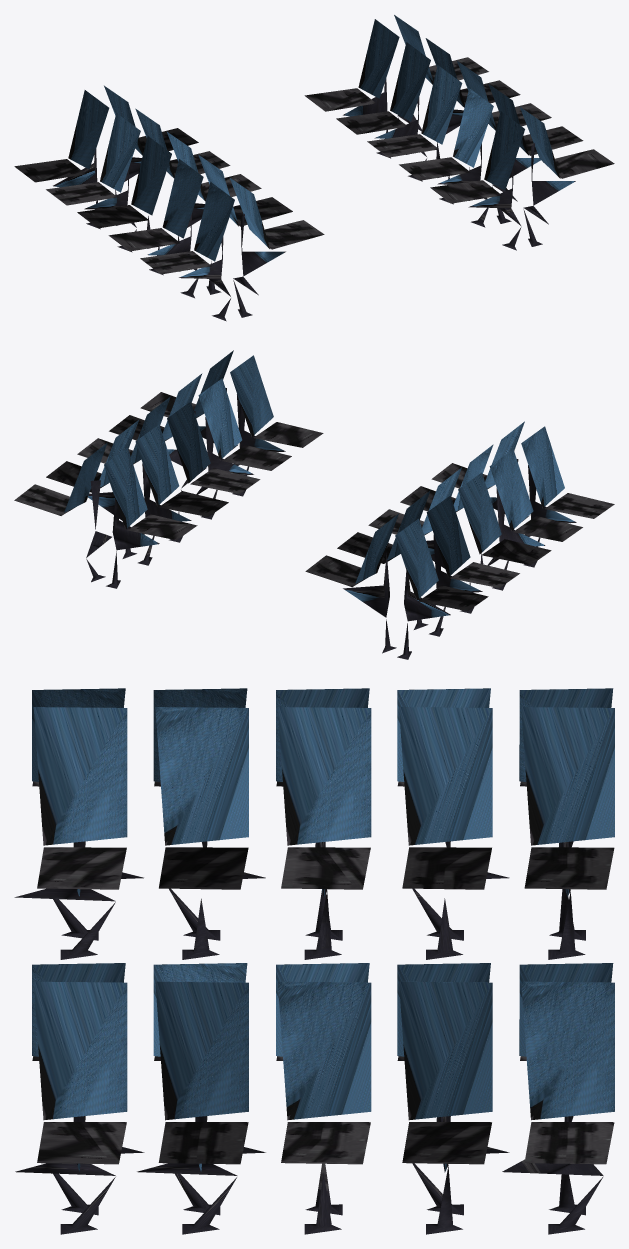
File: waiting_chairs.glb
3 views of the same model, one above another, from view 1: azimuth 30°, elevation 25°; view 2: azimuth 150°, elevation 25°; view 3: azimuth 270°, elevation 25° (orthographic). The views are drawn at different scales.
Parts seen in each view (by area): view 1: Modular_props1; view 2: Modular_props1; view 3: Modular_props1.
Part boxes in pixels (box(x1,y1,x2,y2)): Modular_props1: box(14, 15, 614, 321); Modular_props1: box(14, 350, 614, 659); Modular_props1: box(14, 688, 614, 1234).
Bounding box in the file's own units: 4.15 × 1.12 × 2.46.
Materials: 1 (1 with a texture image).
